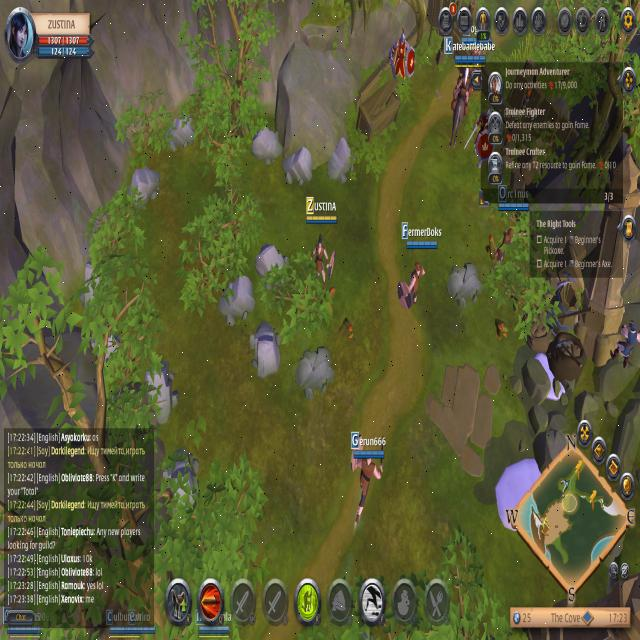broken stone: (444, 253, 483, 320)
stone: (138, 358, 179, 426), (74, 251, 112, 316), (165, 445, 198, 518), (124, 154, 163, 215), (243, 324, 284, 378), (280, 138, 320, 189), (159, 107, 202, 154), (323, 132, 357, 188), (221, 268, 254, 324), (249, 119, 284, 168), (256, 246, 289, 294)
